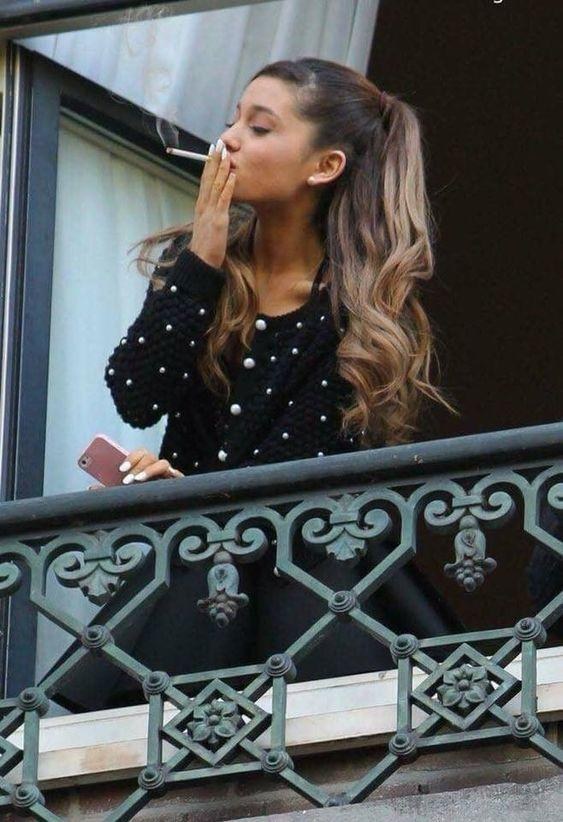cigarette: (166, 147, 209, 163)
